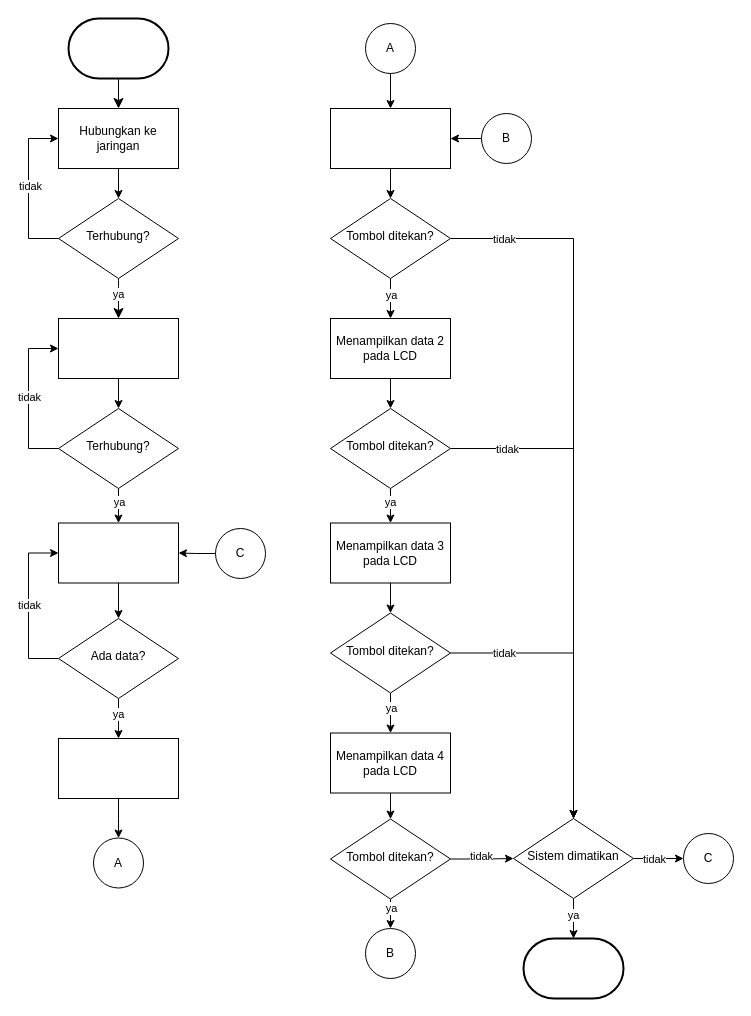
This 751x1016 diagram has some shape labels left out. The shapes that lost their labels are listed below. From the top down, each one's centre as x and y in pixels, then its label:
(118,48): Mulai
(390,138): Menampilkan data 1 pada LCD
(118,348): Hubungkan ke server
(118,552): Cek data masuk dari LoRa
(118,768): Kirim data ke server
(573,968): Berhenti
